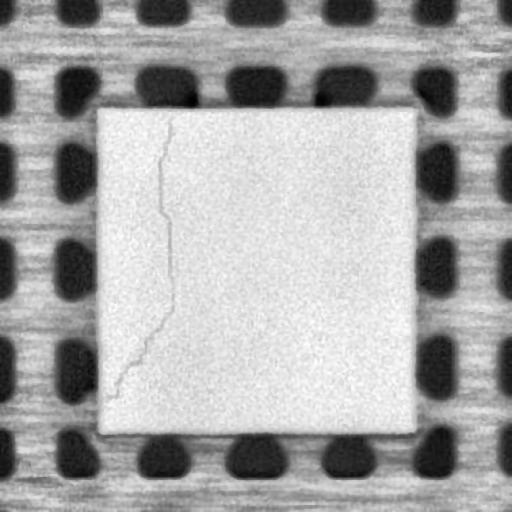DIE_CRACK: (107, 120, 175, 400)
